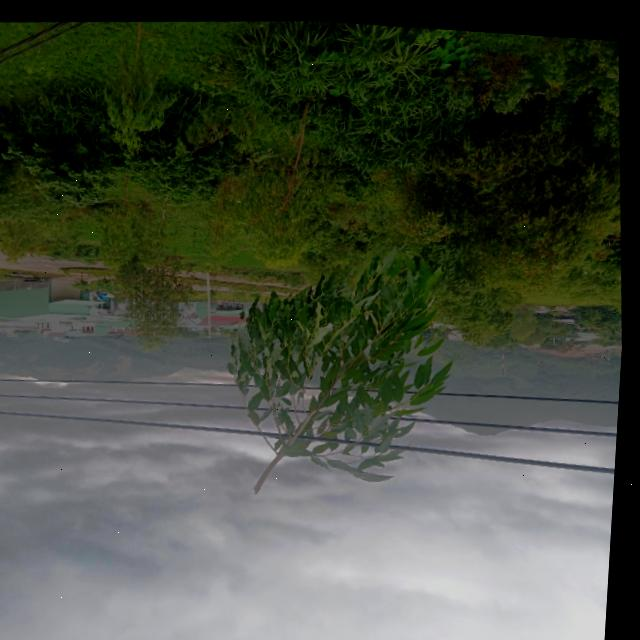obstruction: (214, 230, 477, 498)
wires: (420, 375, 623, 470), (0, 373, 252, 444)
